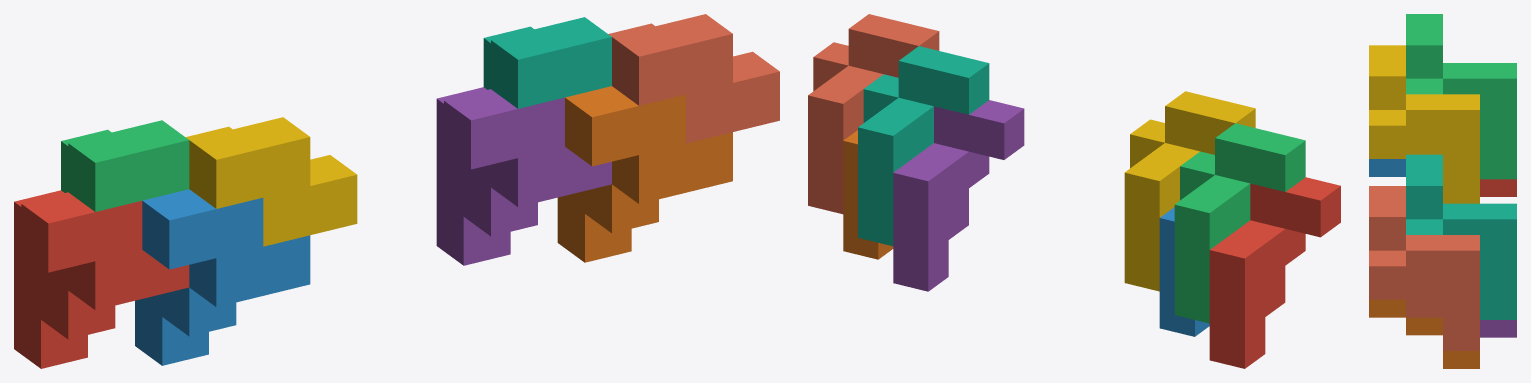
Rendered from tiling.obj.
3 views of the same model, side by side, from view 1: azimuth 30°, elevation 25°; view 2: azimuth 150°, elevation 25°; view 3: azimuth 270°, elevation 25° (orthographic). The views are drawn at different scales.
Visible parts, largest first — view 1: copy_1_domain_5, copy_1_domain_1, copy_1_domain_2, copy_1_domain_6, copy_1_domain_4, copy_1_domain_8, copy_1_domain_7, copy_1_domain_3; view 2: copy_1_domain_1, copy_1_domain_5, copy_1_domain_7, copy_1_domain_3, copy_1_domain_8, copy_1_domain_4, copy_1_domain_2, copy_1_domain_6; view 3: copy_1_domain_8, copy_1_domain_4, copy_1_domain_3, copy_1_domain_7, copy_1_domain_6, copy_1_domain_1, copy_1_domain_2, copy_1_domain_5.
Boxes of the visible parts, x1,y1,x2,y2 form: copy_1_domain_5: [436, 87, 611, 265]; copy_1_domain_1: [14, 190, 189, 368]; copy_1_domain_2: [135, 189, 310, 365]; copy_1_domain_6: [557, 86, 732, 262]; copy_1_domain_4: [185, 117, 357, 246]; copy_1_domain_8: [608, 14, 779, 143]; copy_1_domain_7: [483, 17, 611, 108]; copy_1_domain_3: [61, 120, 189, 211]; copy_1_domain_1: [1209, 177, 1340, 368]; copy_1_domain_5: [893, 100, 1024, 291]; copy_1_domain_7: [858, 46, 989, 246]; copy_1_domain_3: [1174, 123, 1305, 323]; copy_1_domain_8: [808, 14, 939, 214]; copy_1_domain_4: [1124, 91, 1255, 291]; copy_1_domain_2: [1159, 207, 1209, 336]; copy_1_domain_6: [843, 130, 893, 259]; copy_1_domain_8: [1369, 186, 1479, 350]; copy_1_domain_4: [1369, 45, 1479, 203]; copy_1_domain_3: [1406, 14, 1516, 179]; copy_1_domain_7: [1406, 154, 1516, 319]; copy_1_domain_6: [1369, 299, 1479, 368]; copy_1_domain_1: [1480, 179, 1516, 196]; copy_1_domain_2: [1369, 159, 1405, 176]; copy_1_domain_5: [1480, 320, 1516, 337].
Size of the model in its own units: 15 by 5 by 4.
